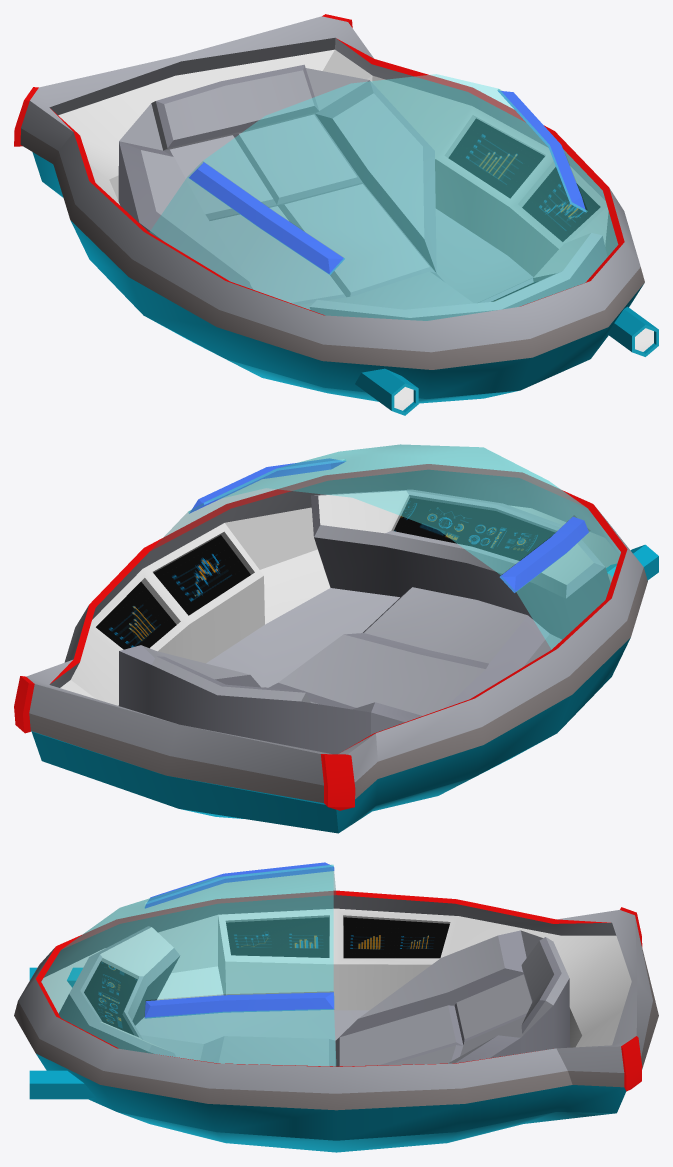
Rendered from Spaceship_Blue.glb.
3 renders of one model, top to bottom at view 1: azimuth 30°, elevation 25°; view 2: azimuth 150°, elevation 25°; view 3: azimuth 270°, elevation 25°, orthographic. The views are drawn at different scales.
Visible parts, largest first — view 1: SpaceShip_01; view 2: SpaceShip_01; view 3: SpaceShip_01.
Boxes of the visible parts, x1,y1,x2,y2 form: SpaceShip_01: (14,14,658,415); SpaceShip_01: (14,444,658,833); SpaceShip_01: (14,862,658,1152).
Size of what is drawn, in the model's own units: 3.51 by 1.87 by 5.06.
4 materials, 4 textured.
